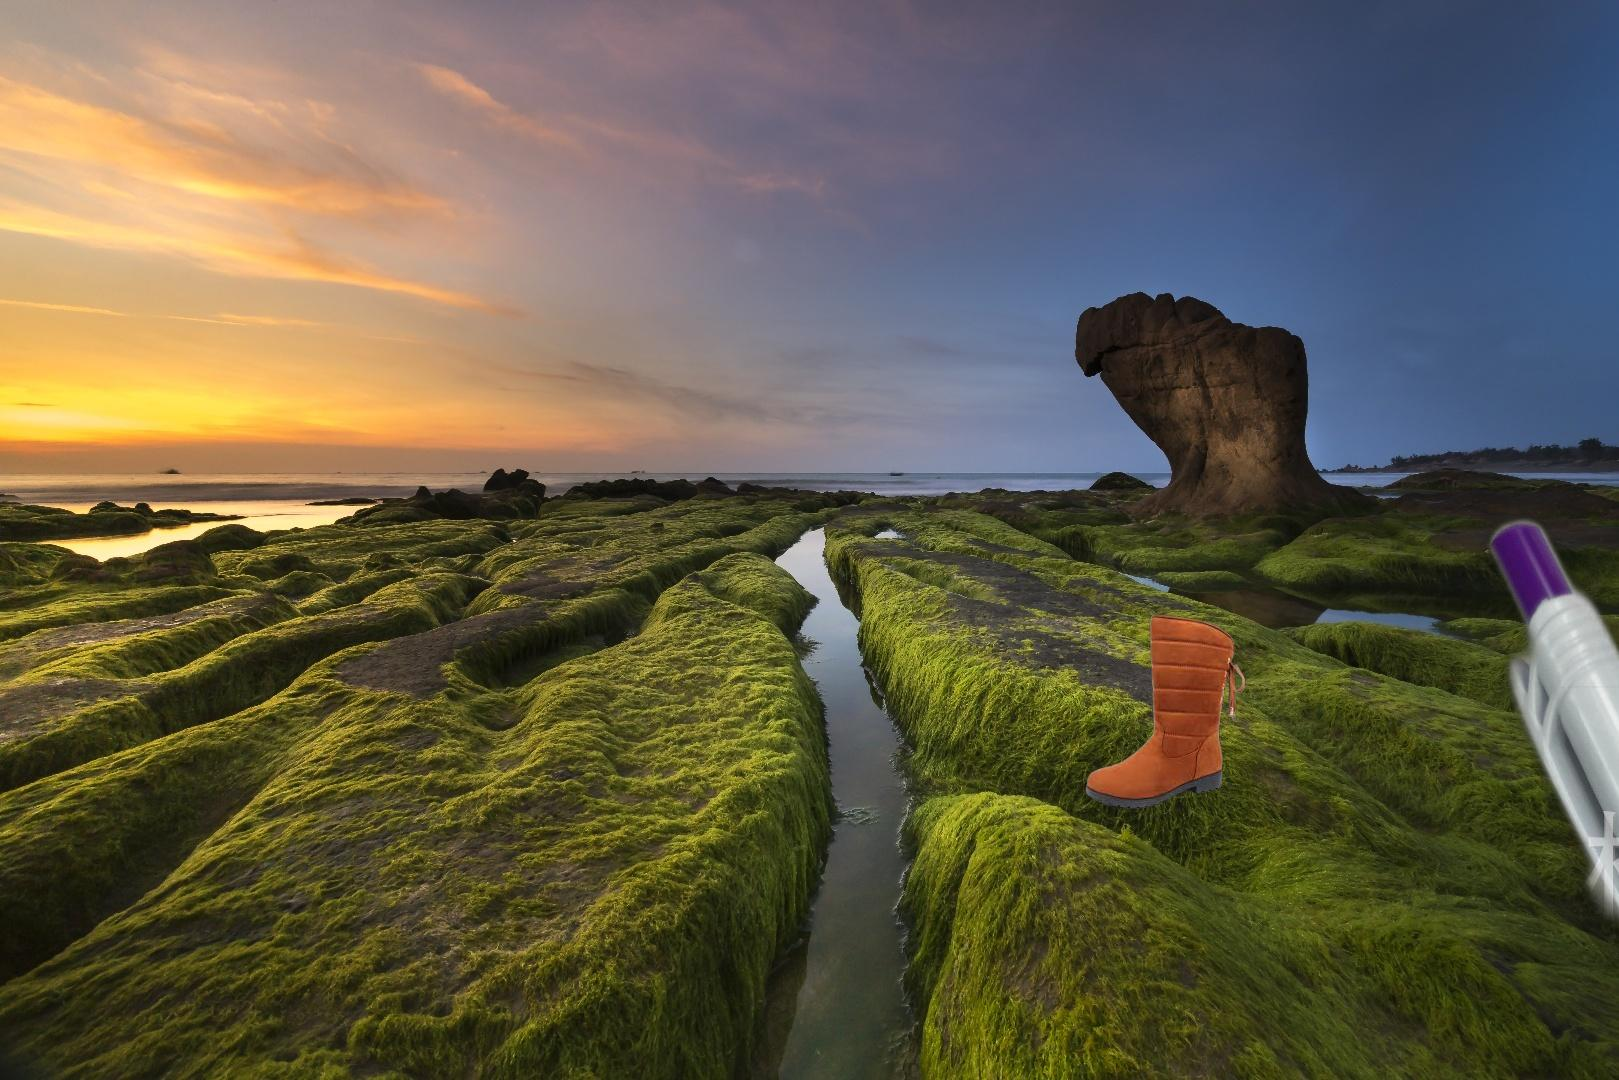penholder: (1472, 360, 1619, 1080)
shoes: (1083, 612, 1248, 812)
trashbox-cardboard: (1269, 686, 1619, 1080)
